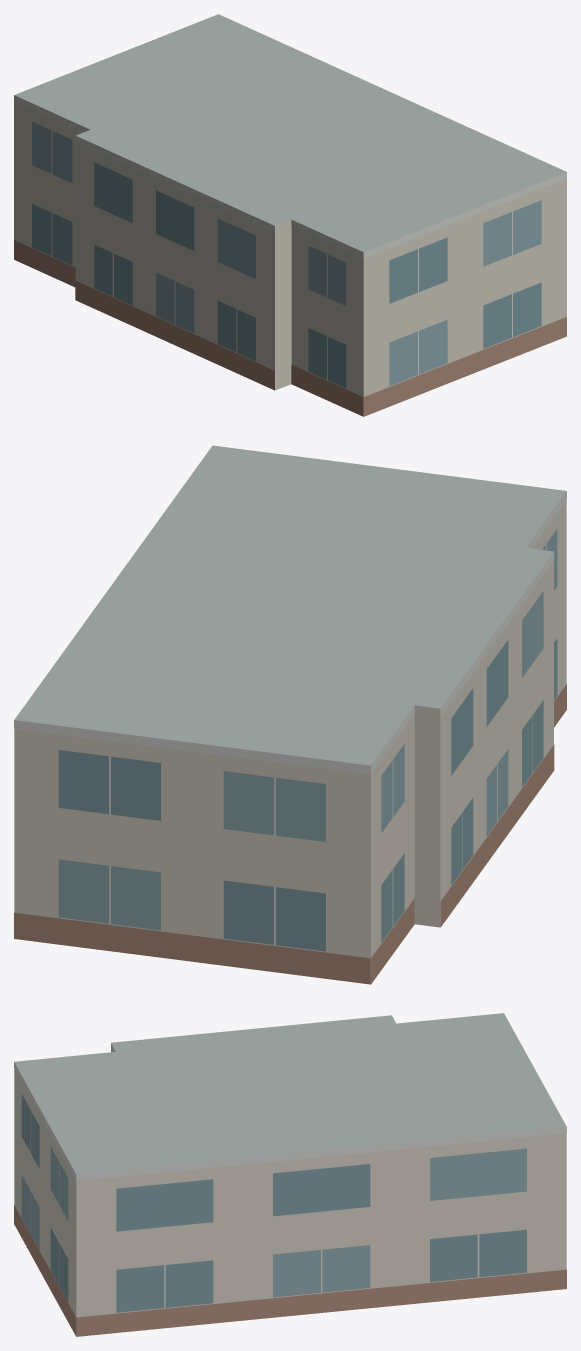
Rendered from survey-upis-32928092.glb.
3 renders of one model, top to bottom at view 1: azimuth 30°, elevation 25°; view 2: azimuth 150°, elevation 25°; view 3: azimuth 270°, elevation 25°, orthographic. The views are drawn at different scales.
Visible parts, largest first — view 1: survey-upis-32928092.tmp; view 2: survey-upis-32928092.tmp; view 3: survey-upis-32928092.tmp.
Part boxes in pixels (left/top/right/bottom): survey-upis-32928092.tmp: left=14, top=14, right=566, bottom=416; survey-upis-32928092.tmp: left=14, top=445, right=566, bottom=984; survey-upis-32928092.tmp: left=14, top=1013, right=566, bottom=1336.
Size of the model in its own units: 13.04 by 6.1 by 18.85.
